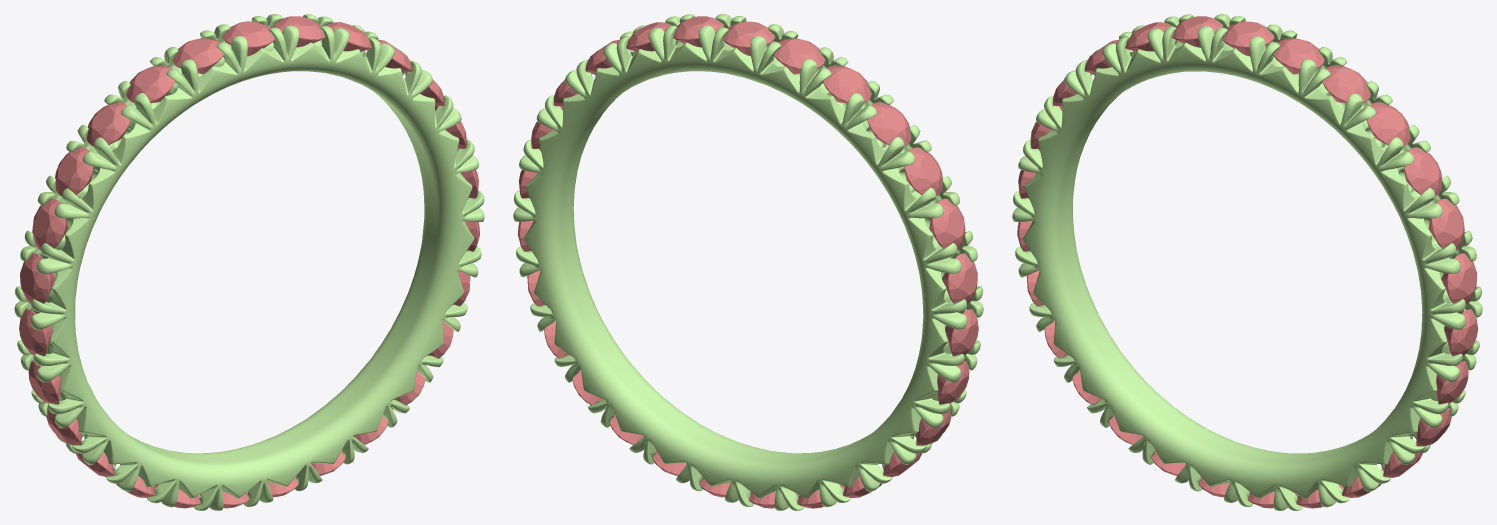
File: BE2D4980E_RENDER.glb
3 renders of one model, left to right at view 1: azimuth 30°, elevation 25°; view 2: azimuth 150°, elevation 25°; view 3: azimuth 330°, elevation 25°, orthographic.
Visible parts, largest first — view 1: Metal03, Diamond_Round_Gem_BD.008, Diamond_Round_Gem_BD.007, Diamond_Round_Gem_BD.006, Diamond_Round_Gem_BD.009, Diamond_Round_Gem_BD.004, Diamond_Round_Gem_BD.005, Diamond_Round_Gem_BD.015, Diamond_Round_Gem_BD.021, Diamond_Round_Gem_BD.016, Diamond_Round_Gem_BD.022, Diamond_Round_Gem_BD.010 (+1 smaller); view 2: Metal03, Diamond_Round_Gem_BD.007, Diamond_Round_Gem_BD.008, Diamond_Round_Gem_BD.009, Diamond_Round_Gem_BD.006, Diamond_Round_Gem_BD.004, Diamond_Round_Gem_BD.005, Diamond_Round_Gem_BD.015, Diamond_Round_Gem_BD.021, Diamond_Round_Gem_BD.016, Diamond_Round_Gem_BD.022, Diamond_Round_Gem_BD.003 (+1 smaller); view 3: Metal03, Diamond_Round_Gem_BD.011, Diamond_Round_Gem_BD.012, Diamond_Round_Gem_BD.010, Diamond_Round_Gem_BD.013, Diamond_Round_Gem_BD.016, Diamond_Round_Gem_BD.014, Diamond_Round_Gem_BD.015, Diamond_Round_Gem_BD.020, Diamond_Round_Gem_BD.004, Diamond_Round_Gem_BD.019, Diamond_Round_Gem_BD.017 (+1 smaller).
Part boxes in pixels (box(x1,y1,x2,y2)): Metal03: box(14, 14, 484, 510); Diamond_Round_Gem_BD.008: box(86, 102, 130, 146); Diamond_Round_Gem_BD.007: box(55, 147, 93, 196); Diamond_Round_Gem_BD.006: box(32, 198, 68, 250); Diamond_Round_Gem_BD.009: box(126, 65, 174, 103); Diamond_Round_Gem_BD.004: box(172, 38, 223, 74); Diamond_Round_Gem_BD.005: box(20, 253, 55, 304); Diamond_Round_Gem_BD.015: box(222, 21, 275, 56); Diamond_Round_Gem_BD.021: box(19, 309, 52, 356); Diamond_Round_Gem_BD.016: box(274, 16, 325, 47); Diamond_Round_Gem_BD.022: box(28, 361, 60, 404); Diamond_Round_Gem_BD.010: box(325, 22, 371, 51); Metal03: box(513, 14, 983, 510); Diamond_Round_Gem_BD.007: box(904, 147, 942, 196); Diamond_Round_Gem_BD.008: box(867, 102, 911, 146); Diamond_Round_Gem_BD.009: box(823, 65, 871, 103); Diamond_Round_Gem_BD.006: box(929, 199, 965, 250); Diamond_Round_Gem_BD.004: box(774, 38, 825, 74); Diamond_Round_Gem_BD.005: box(942, 253, 977, 304); Diamond_Round_Gem_BD.015: box(723, 21, 775, 56); Diamond_Round_Gem_BD.021: box(945, 309, 978, 356); Diamond_Round_Gem_BD.016: box(673, 16, 723, 47); Diamond_Round_Gem_BD.022: box(937, 361, 969, 404); Diamond_Round_Gem_BD.003: box(916, 408, 951, 445); Metal03: box(1012, 14, 1482, 510); Diamond_Round_Gem_BD.011: box(1366, 102, 1410, 146); Diamond_Round_Gem_BD.012: box(1404, 147, 1442, 196); Diamond_Round_Gem_BD.010: box(1322, 65, 1370, 103); Diamond_Round_Gem_BD.013: box(1428, 199, 1464, 250); Diamond_Round_Gem_BD.016: box(1273, 38, 1324, 74); Diamond_Round_Gem_BD.014: box(1441, 253, 1476, 304); Diamond_Round_Gem_BD.015: box(1222, 21, 1274, 56); Diamond_Round_Gem_BD.020: box(1444, 309, 1477, 355); Diamond_Round_Gem_BD.004: box(1172, 16, 1223, 47); Diamond_Round_Gem_BD.019: box(1436, 361, 1468, 404); Diamond_Round_Gem_BD.017: box(1416, 408, 1451, 446).
Bounding box in the file's own units: 20.35 × 20.33 × 2.33.
